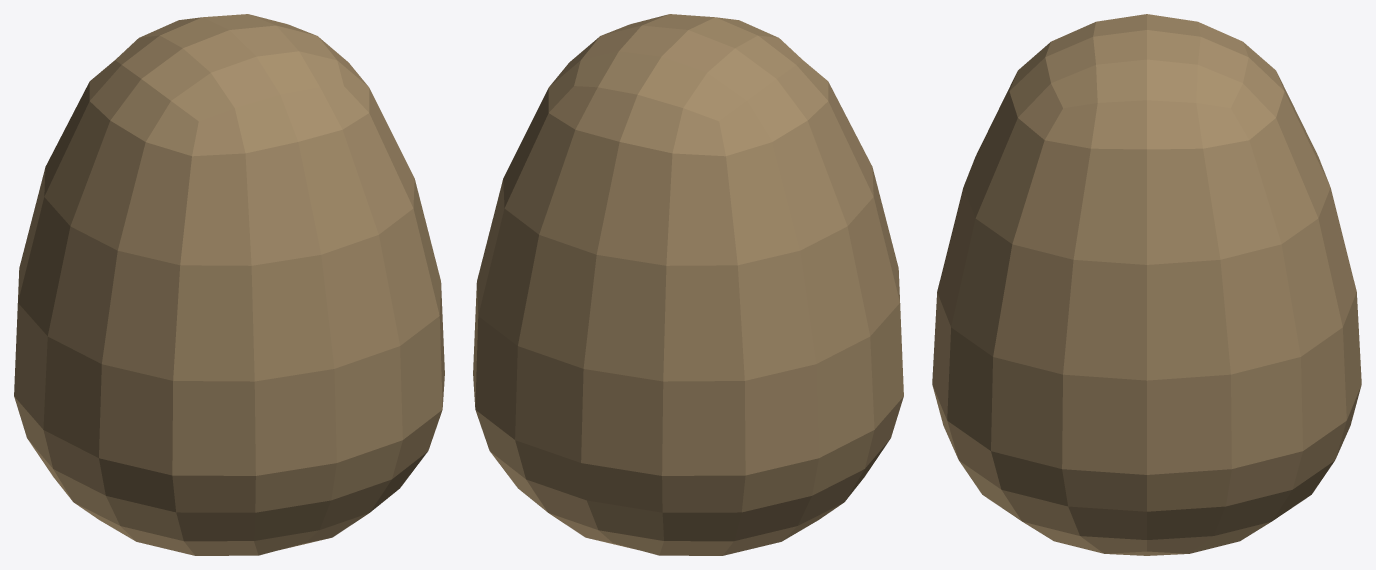
File: Egg.glb
The picture shows the model from 3 angles, left to right: view 1: azimuth 30°, elevation 25°; view 2: azimuth 150°, elevation 25°; view 3: azimuth 270°, elevation 25°; orthographic projection.
Parts seen in each view (by area): view 1: Egg_Whole; view 2: Egg_Whole; view 3: Egg_Whole.
Part boxes in pixels (x1=…): Egg_Whole: x1=14, y1=14, x2=444, y2=555; Egg_Whole: x1=473, y1=14, x2=903, y2=555; Egg_Whole: x1=932, y1=14, x2=1361, y2=555.
Size of the model in its own units: 0.3633 by 0.4659 by 0.3633.
